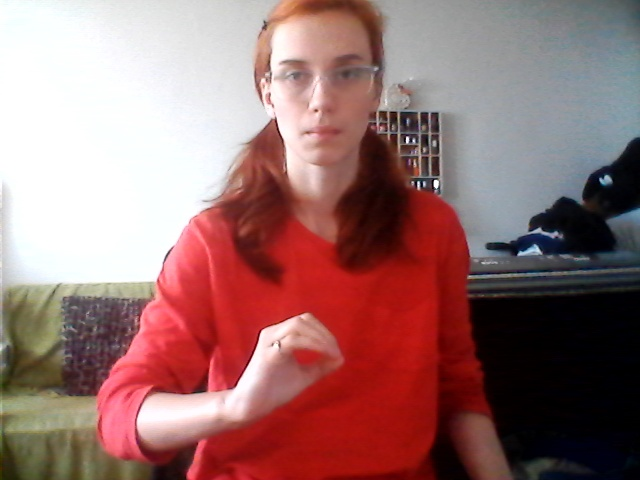o: (218, 298, 352, 429)
